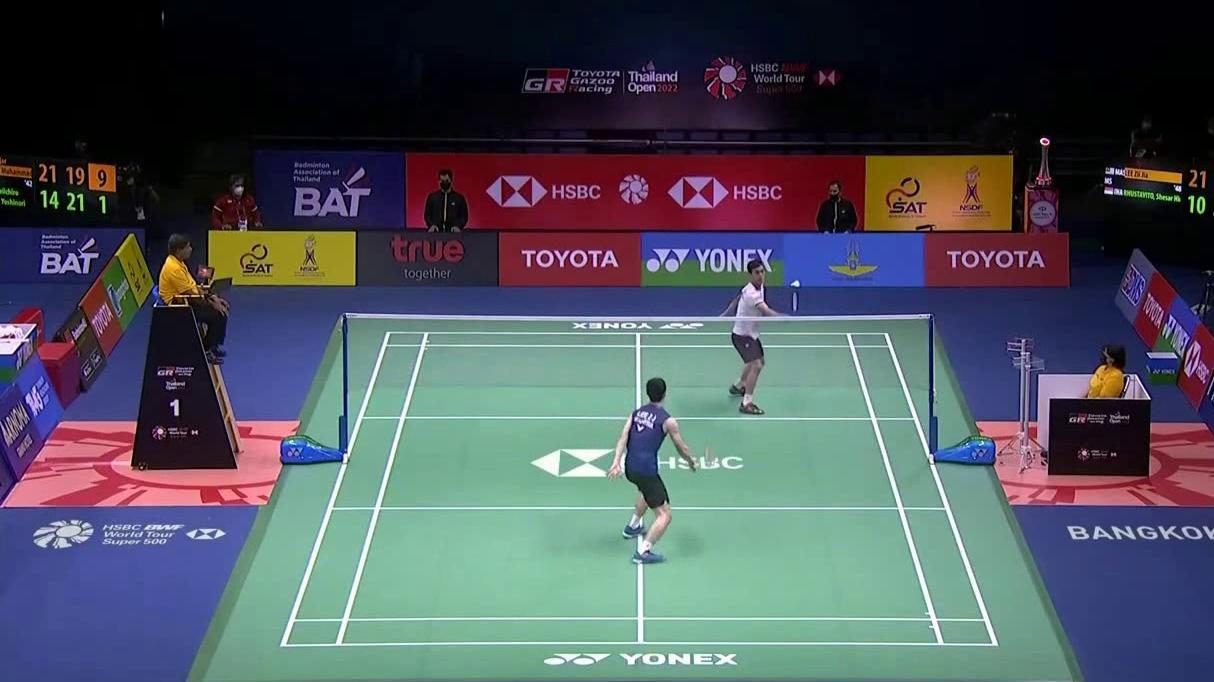racket: (692, 445, 715, 473), (788, 291, 800, 319)
shuttle: (789, 280, 802, 289)
